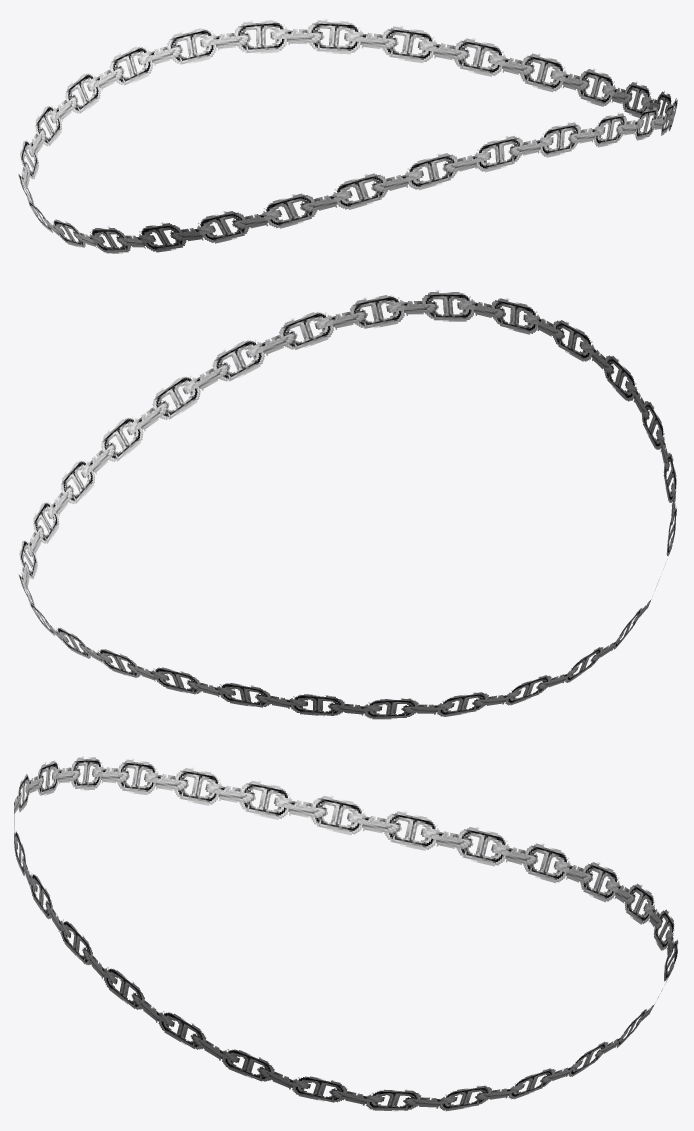
File: porto bracelet - sterling silver_02.glb
The picture shows the model from 3 angles, top to bottom: view 1: azimuth 30°, elevation 25°; view 2: azimuth 150°, elevation 25°; view 3: azimuth 270°, elevation 25°; orthographic projection.
Visible parts, largest first — view 1: chain_part.002; view 2: chain_part.002; view 3: chain_part.002.
Part boxes in pixels (x1=…): chain_part.002: x1=18, y1=19, x2=677, y2=253; chain_part.002: x1=18, y1=290, x2=676, y2=719; chain_part.002: x1=14, y1=756, x2=678, y2=1111.
Size of the model in its own units: 1.34 by 0.4103 by 1.32.
1 material, 1 textured.
